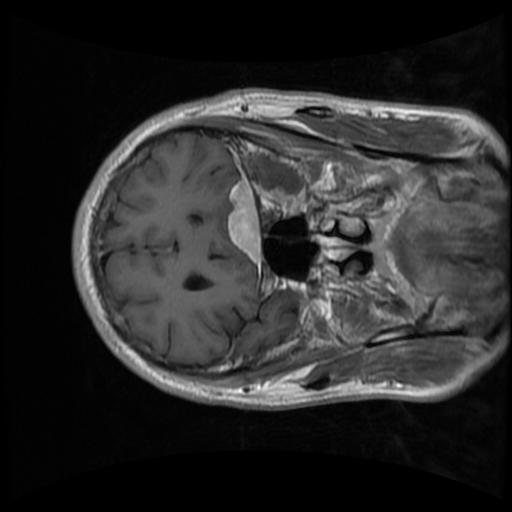meningioma: (227, 177, 260, 265)
